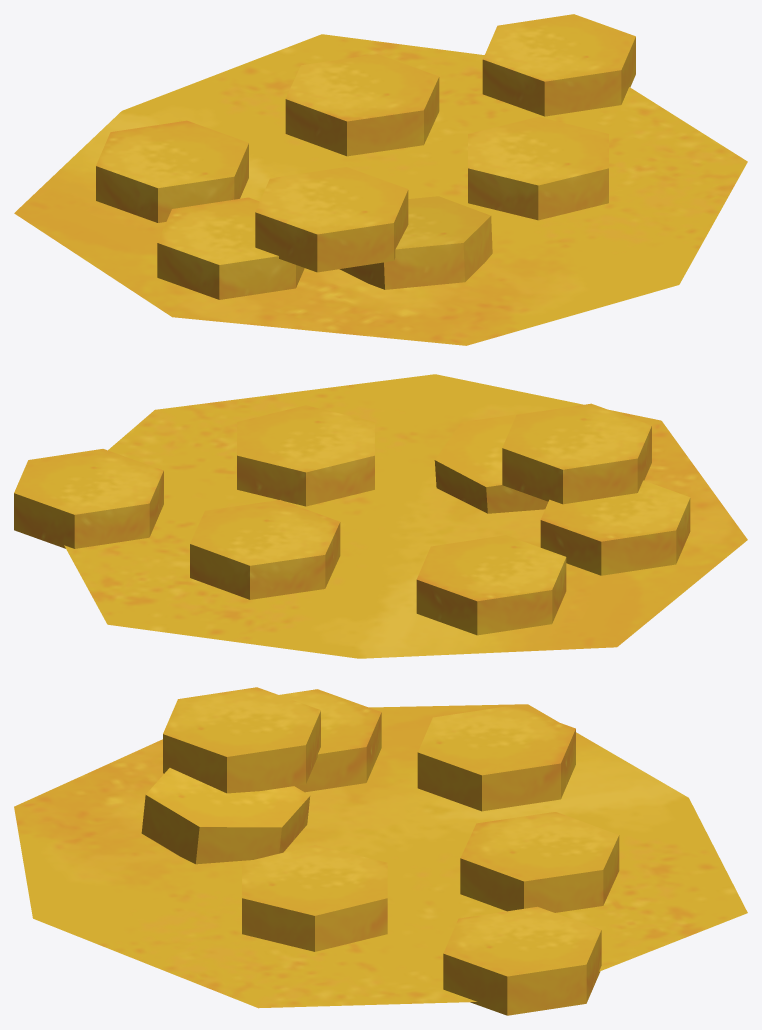
The model's file is SM_goldPile2.fbx.
The picture shows the model from 3 angles, top to bottom: view 1: azimuth 30°, elevation 25°; view 2: azimuth 150°, elevation 25°; view 3: azimuth 270°, elevation 25°; orthographic projection. The views are drawn at different scales.
Parts seen in each view (by area): view 1: goldPile2; view 2: goldPile2; view 3: goldPile2.
Boxes of the visible parts, x1,y1,x2,y2 form: goldPile2: (14,14,747,345); goldPile2: (14,374,747,658); goldPile2: (14,687,747,1015).
Size of the model in its own units: 10.82 by 1.35 by 10.88.
